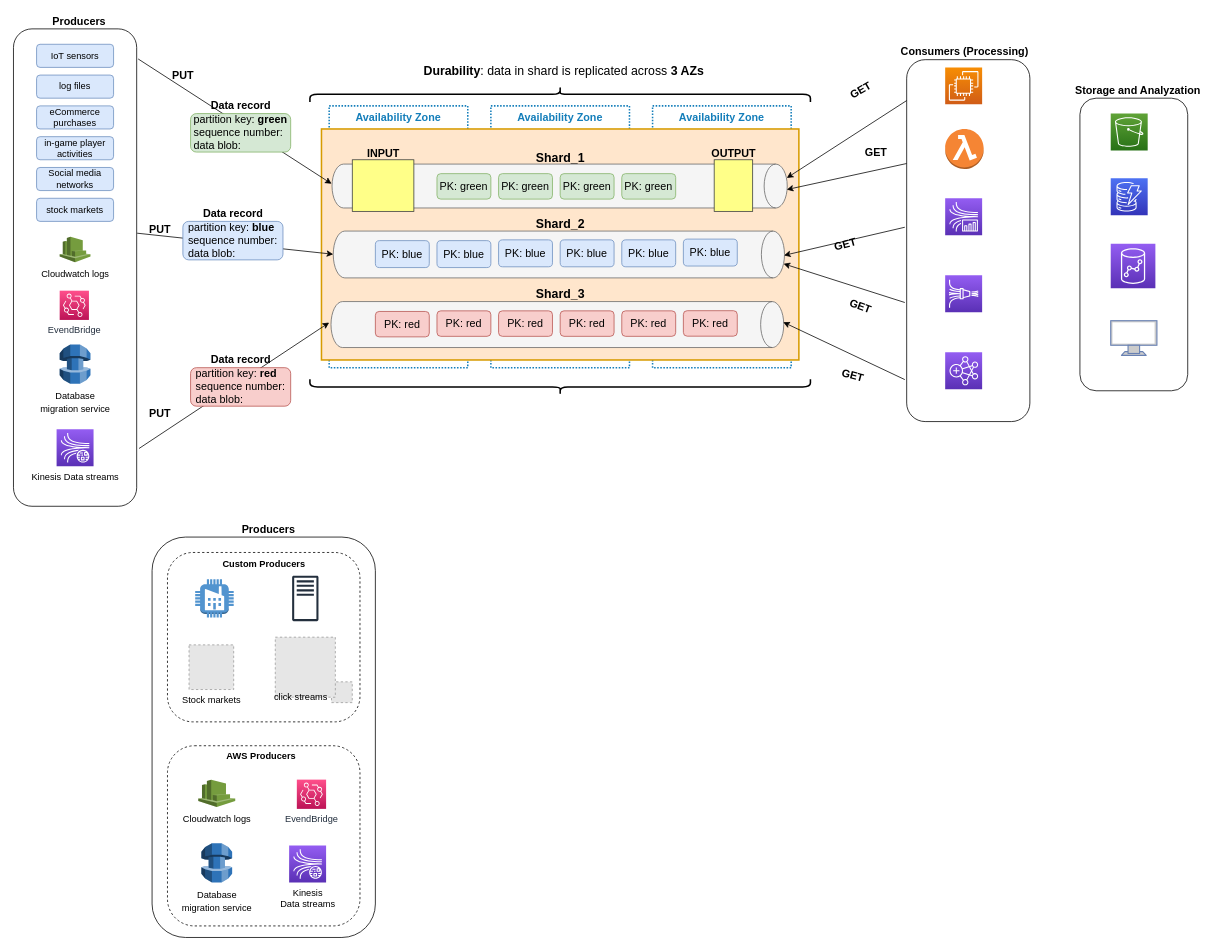
Image size: 1220x951. Some labels were removed from this diagram. Grey dashed boxes stand in for pictures. The centre of each missing label's shape, as x and y in pixels:
"1MB/S OR 1000MSG/S" goes at (383,185).
"2MB/S" goes at (733,185).
"BI tools" goes at (1133,338).
"Data retention period By default: 24h Extended to 7 days" goes at (560,386).
"DynamoDB" goes at (1129,196).
"EC2" goes at (963,85).
"EMR" goes at (963,370).
"IoT devices" goes at (214,598).
"Kinesis Data Analitycs" goes at (963,216).
"Kinesis Data Firehose" goes at (963,293).
"Lambda" goes at (964,148).
"Metrics and Logs" goes at (305,598).
"Redshift" goes at (1132,265).
"S3" goes at (1129,132).
